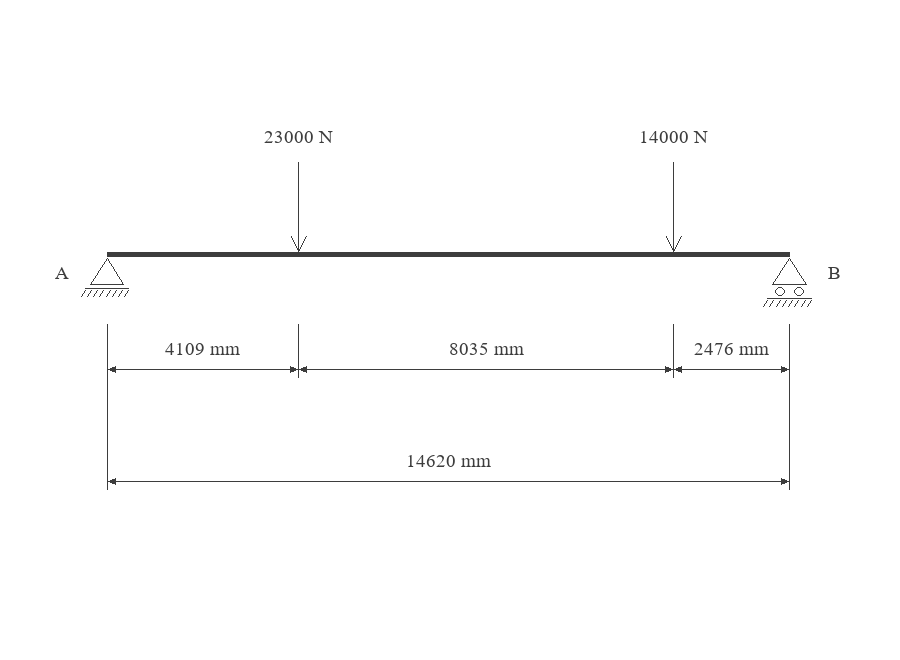pin_support: (81, 258, 129, 297)
point_load: (291, 162, 307, 252), (666, 162, 682, 252)
roller_support: (763, 258, 812, 307)
